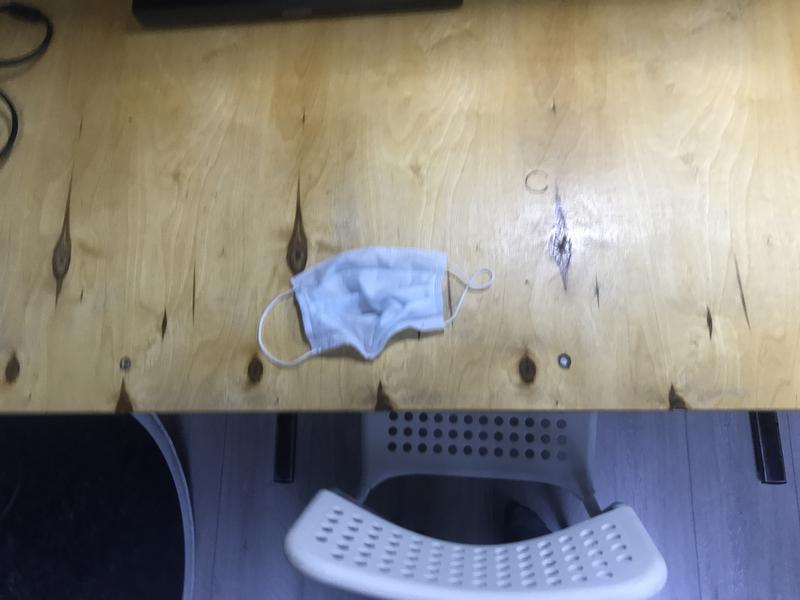medical_mask: (257, 248, 494, 366)
